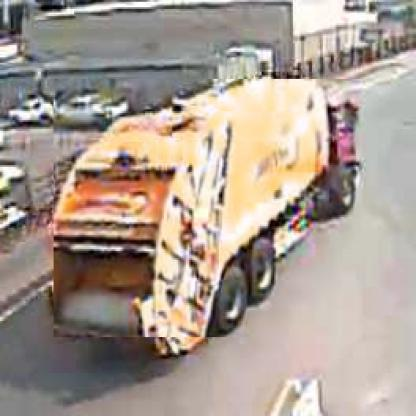truck: (53, 80, 363, 340)
